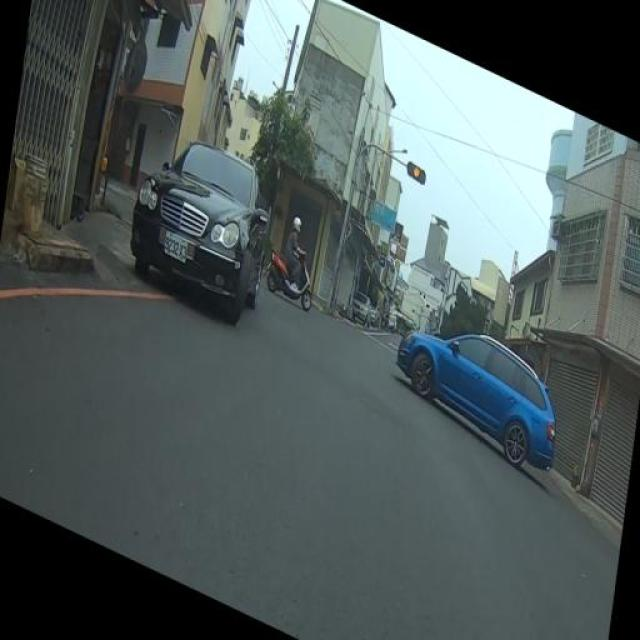illegalparking: (108, 135, 292, 314)
